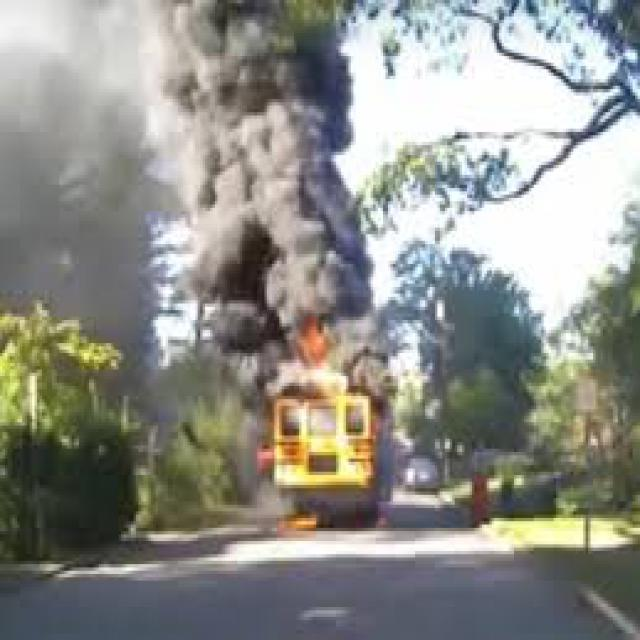fire: (265, 314, 379, 397)
